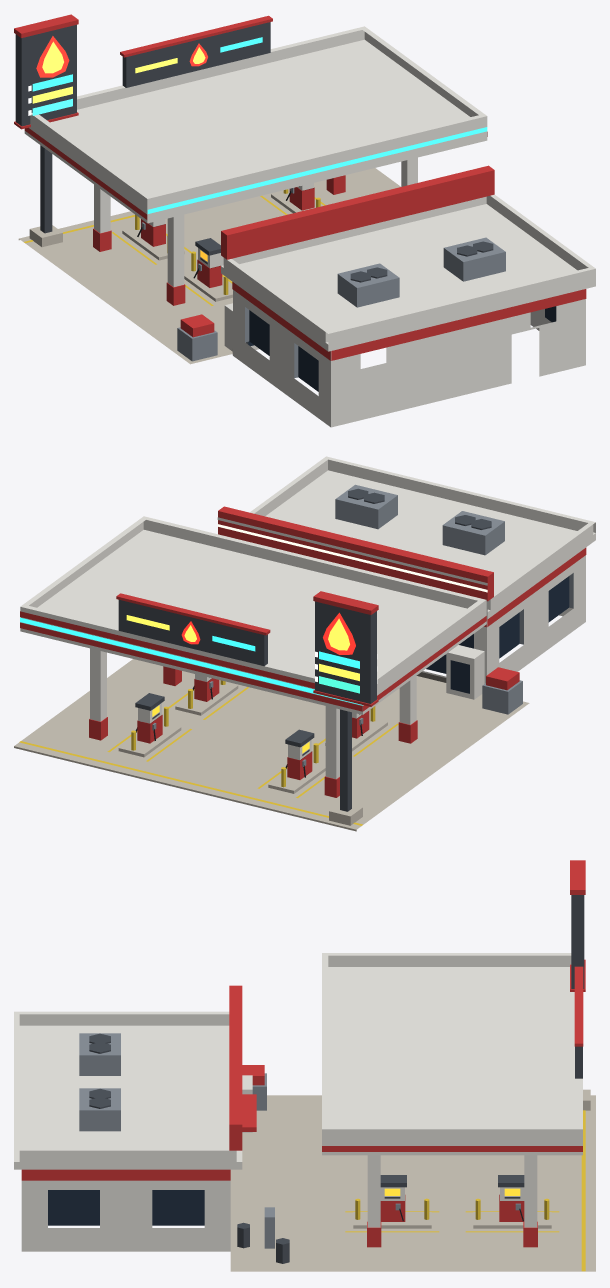
Rendered from gas_station.glb.
3 views of the same model, one above another, from view 1: azimuth 30°, elevation 25°; view 2: azimuth 150°, elevation 25°; view 3: azimuth 270°, elevation 25° (orthographic). The views are drawn at different scales.
Visible parts, largest first — view 1: Body, Pump_1, Pump_3, Pump_4; view 2: Body, Pump_4, Pump_3, Pump_2, Pump_1; view 3: Body, Pump_4, Pump_2.
Boxes of the visible parts, x1,y1,x2,y2 form: Body: (14,14,595,427); Pump_1: (184,238,232,301); Pump_3: (122,214,184,260); Pump_4: (271,183,321,213); Body: (14,456,595,831); Pump_4: (118,693,181,757); Pump_3: (268,729,325,793); Pump_2: (175,674,238,715); Pump_1: (325,706,387,751); Body: (14,860,595,1271); Pump_4: (473,1175,551,1228); Pump_2: (353,1175,431,1228).
Size of what is drawn, in the model's own units: 16.46 by 9.8 by 22.3.
